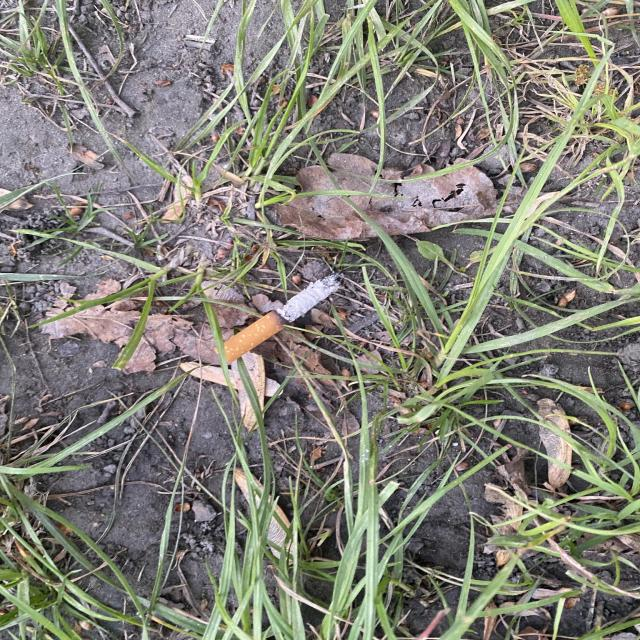other waste: (212, 272, 345, 364)
